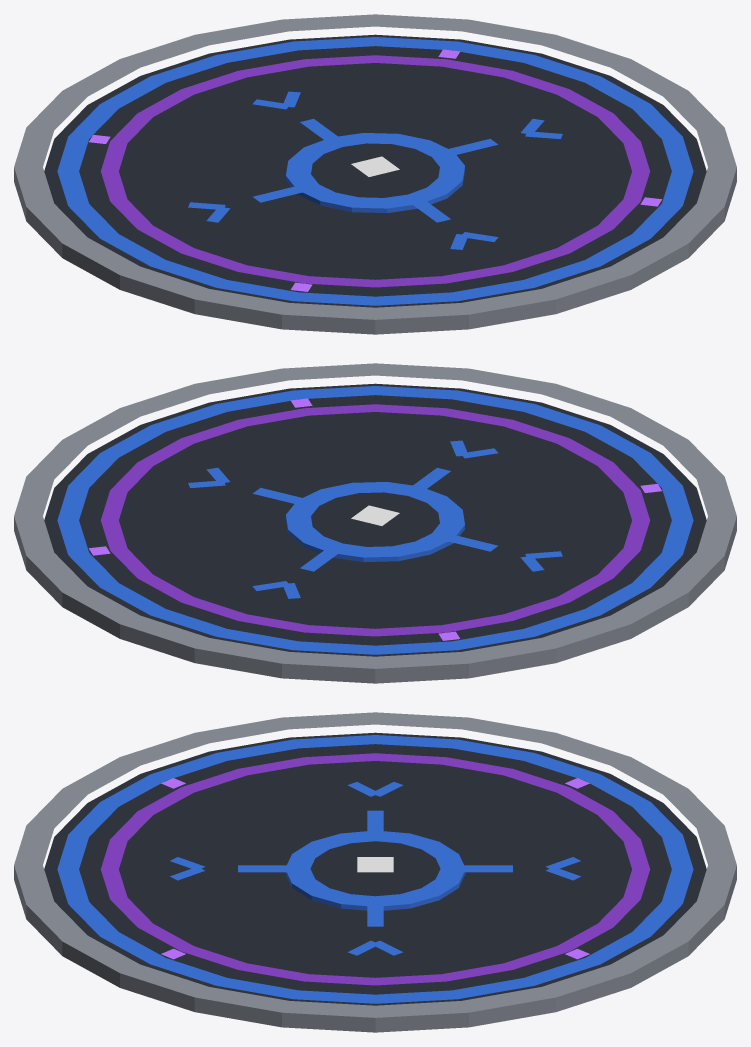
File: rifleman_rare_area.glb
The picture shows the model from 3 angles, top to bottom: view 1: azimuth 30°, elevation 25°; view 2: azimuth 150°, elevation 25°; view 3: azimuth 270°, elevation 25°; orthographic projection.
Visible parts, largest first — view 1: rifleman_rare_area; view 2: rifleman_rare_area; view 3: rifleman_rare_area.
Boxes of the visible parts, bbox=[...] form: rifleman_rare_area: bbox=[14, 14, 736, 334]; rifleman_rare_area: bbox=[14, 363, 736, 683]; rifleman_rare_area: bbox=[14, 712, 736, 1032].
Bounding box in the file's own units: 2 × 0.046 × 2.
Materials: 2 (2 with a texture image).
